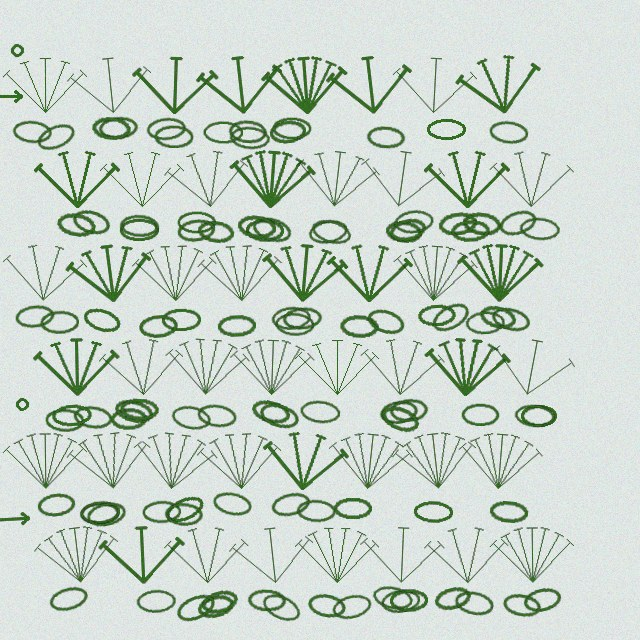chain: (428, 298, 473, 336), (162, 491, 207, 528), (173, 589, 218, 626), (259, 589, 304, 626), (34, 119, 78, 155), (378, 401, 422, 436), (250, 213, 294, 246), (496, 206, 540, 239), (80, 304, 124, 337), (364, 305, 408, 338), (257, 399, 301, 432), (309, 216, 353, 248), (70, 206, 113, 238), (249, 396, 292, 428), (47, 583, 90, 615), (269, 489, 313, 520), (330, 591, 374, 622), (199, 586, 241, 618), (489, 304, 532, 335), (112, 396, 155, 427), (521, 584, 564, 615), (477, 302, 519, 333), (195, 591, 237, 622), (432, 583, 474, 614), (85, 499, 128, 529), (371, 583, 414, 613), (387, 215, 429, 245), (211, 489, 253, 519), (453, 588, 495, 618), (55, 210, 97, 239), (307, 217, 349, 246), (170, 403, 212, 432), (306, 591, 348, 620), (501, 591, 543, 620), (196, 402, 238, 430), (378, 398, 420, 426), (380, 587, 421, 615), (393, 208, 435, 235), (14, 303, 56, 330), (72, 404, 114, 431), (79, 499, 121, 526), (196, 218, 236, 246), (488, 119, 529, 146), (176, 217, 217, 244), (236, 213, 277, 240), (461, 210, 502, 237), (437, 210, 478, 237), (36, 491, 77, 518), (299, 399, 341, 425), (268, 118, 308, 145), (98, 115, 139, 141), (146, 116, 187, 142), (229, 125, 270, 151), (519, 216, 560, 242), (514, 403, 555, 429), (488, 499, 529, 525), (12, 119, 52, 145), (91, 115, 131, 141), (384, 219, 424, 245), (138, 313, 178, 339), (271, 305, 311, 331), (389, 397, 429, 423), (282, 306, 323, 331), (51, 403, 92, 428), (228, 119, 268, 144), (366, 125, 406, 150), (417, 303, 457, 328), (465, 310, 505, 335), (119, 397, 159, 422), (247, 588, 287, 613), (119, 214, 160, 238), (79, 501, 120, 525), (450, 219, 490, 243), (339, 314, 379, 338), (296, 499, 336, 523), (413, 500, 453, 524), (136, 589, 176, 613), (245, 218, 284, 242), (40, 310, 79, 334), (217, 314, 256, 338), (275, 312, 314, 336), (45, 408, 84, 432), (142, 500, 181, 524), (164, 502, 203, 526), (389, 588, 428, 612), (154, 125, 194, 148), (203, 121, 243, 144), (272, 117, 312, 140), (426, 118, 466, 141), (119, 218, 159, 241), (161, 308, 201, 331), (110, 407, 148, 431), (177, 211, 216, 234), (461, 403, 500, 426), (333, 497, 372, 520), (520, 404, 558, 427)
fan: (484, 327, 580, 405), (452, 45, 547, 122), (355, 140, 449, 215), (63, 235, 156, 309), (128, 423, 221, 497), (63, 423, 156, 496), (194, 47, 286, 120), (324, 47, 416, 120), (291, 141, 383, 214), (389, 423, 481, 496), (31, 517, 123, 590), (64, 48, 156, 120), (161, 142, 253, 214), (259, 424, 351, 496), (324, 424, 416, 496), (226, 518, 318, 590), (259, 236, 350, 307), (260, 49, 350, 119), (227, 143, 317, 213), (390, 237, 480, 307), (357, 331, 447, 401), (422, 331, 512, 401), (455, 425, 545, 495), (162, 331, 252, 400), (0, 237, 89, 306), (390, 50, 479, 118), (97, 332, 186, 400), (195, 426, 284, 494), (196, 238, 284, 306), (456, 238, 544, 305), (98, 520, 186, 587), (358, 520, 446, 587), (131, 51, 219, 117), (228, 333, 316, 399), (488, 145, 575, 211), (131, 239, 218, 305), (326, 239, 413, 305), (163, 521, 250, 587), (423, 521, 510, 587), (33, 333, 120, 398), (2, 427, 88, 492), (489, 521, 575, 586), (2, 52, 88, 116), (34, 146, 120, 210), (99, 146, 185, 210), (424, 146, 510, 210), (294, 334, 380, 398), (294, 522, 380, 586)
noise: (0, 512, 32, 526), (0, 89, 25, 104), (9, 42, 26, 59), (15, 397, 30, 412)
